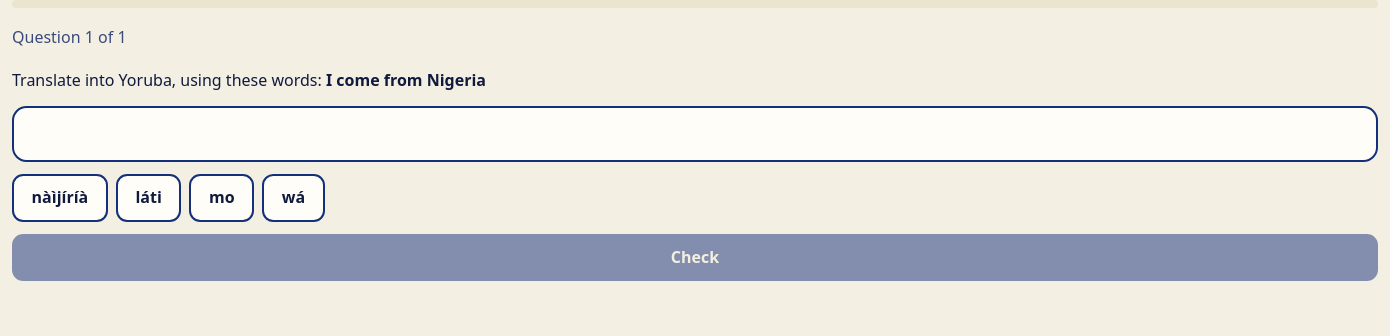
Test case: Activity › lets a learner remove a placed word in the order question
What coordinates should you click on to do the following:
click the button "wá"
I would click on:
 (294, 198)
Its box is [262, 174, 325, 222].
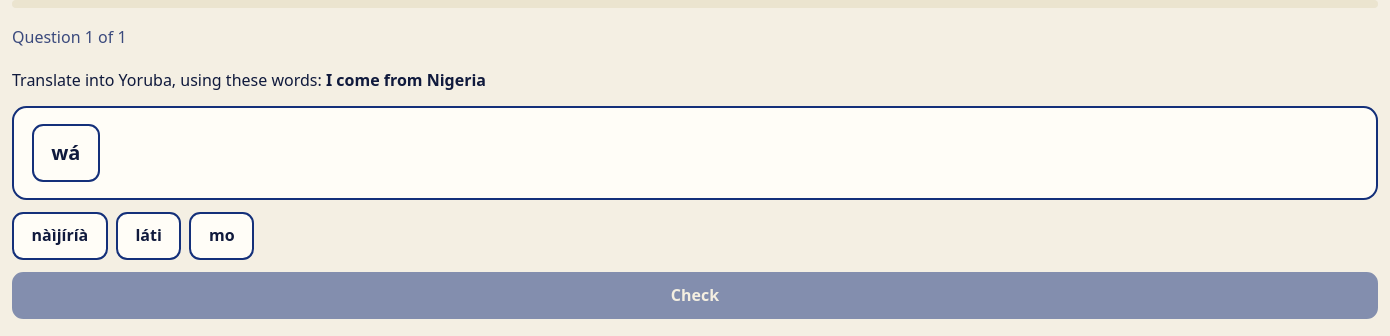
What coordinates should you click on to do the following:
click the button with aria-label "Remove wá"
I would click on:
 (66, 153)
Its box is [32, 124, 100, 182].
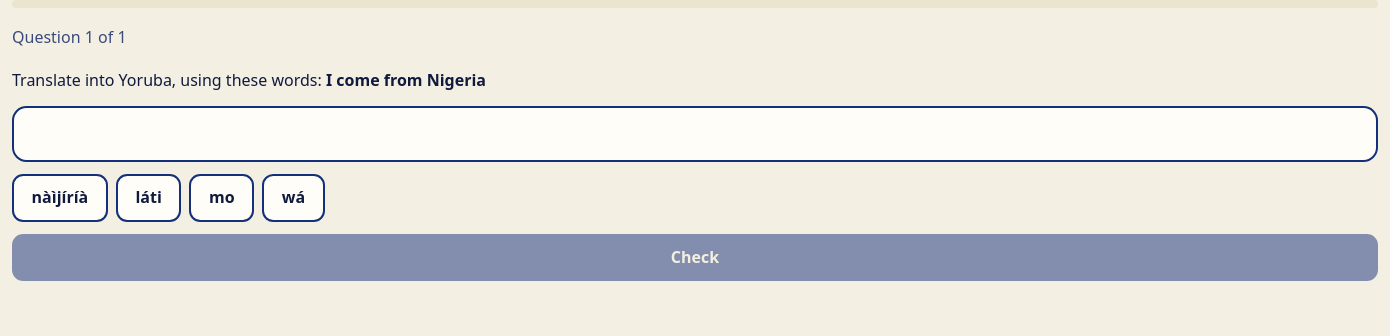
Now the number of buttons with test id "bank-word" is 4, box [12, 174, 108, 222]; [116, 174, 181, 222]; [189, 174, 254, 222]; [262, 174, 325, 222]
